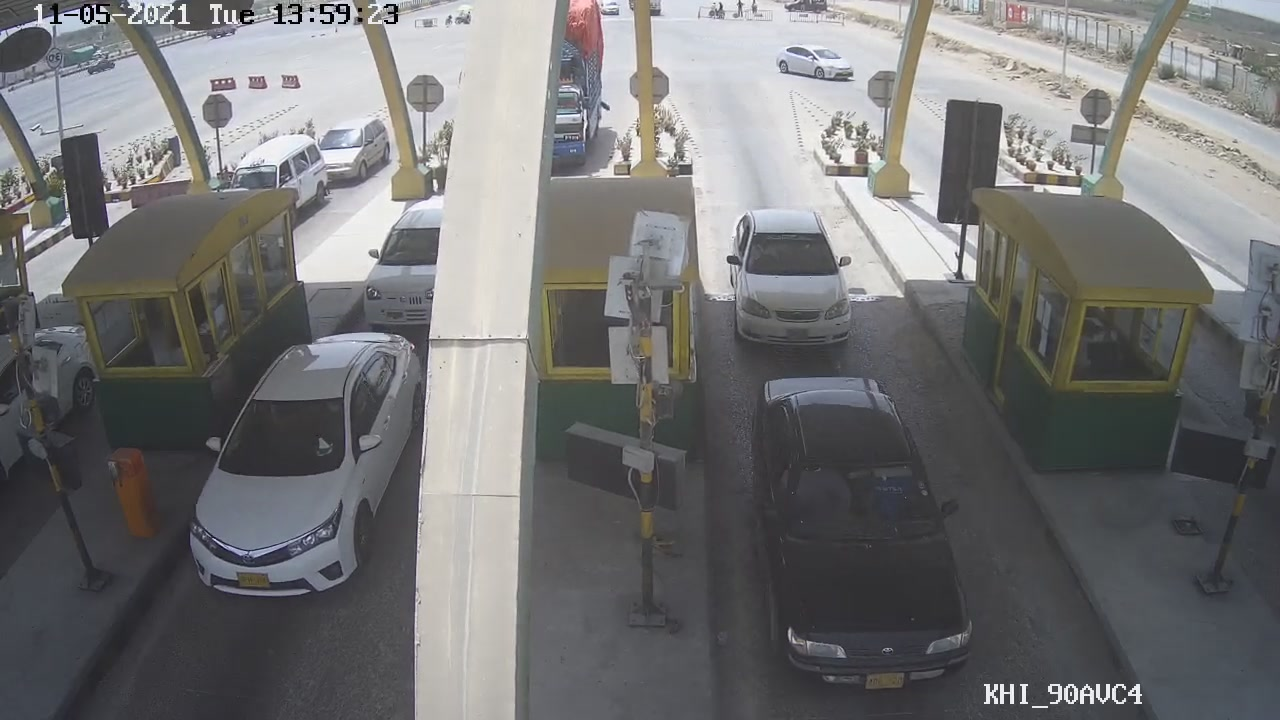F1: (744, 372, 981, 700), (724, 204, 857, 355)
